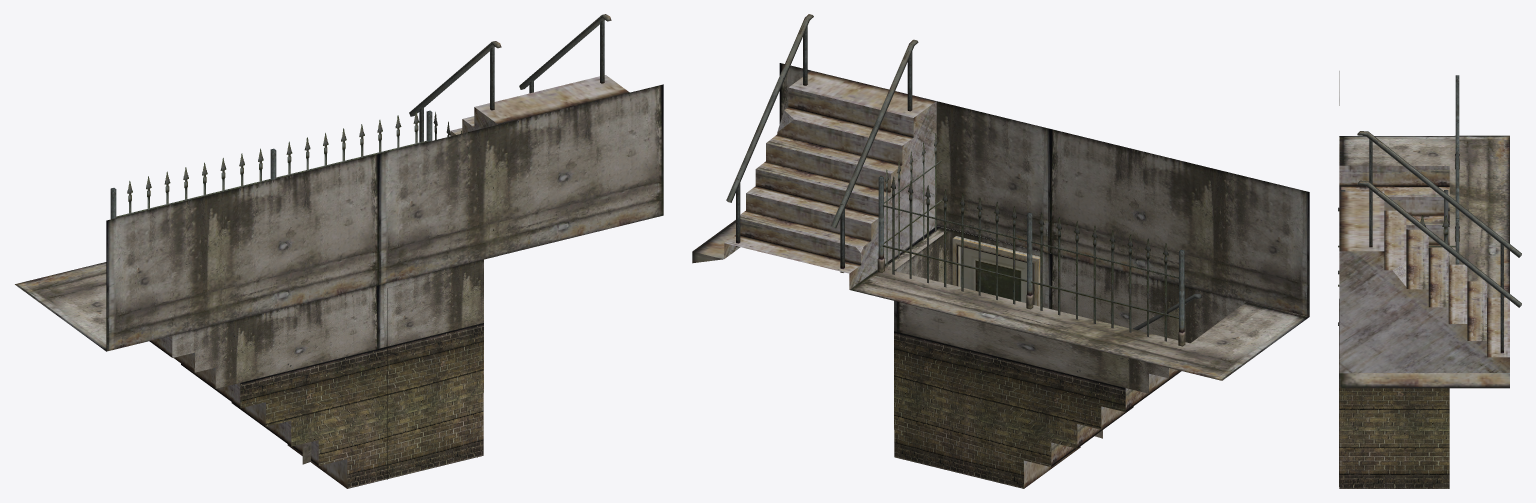
The model's file is Trottoir_05.fbx.
The picture shows the model from 3 angles, left to right: view 1: azimuth 30°, elevation 25°; view 2: azimuth 150°, elevation 25°; view 3: azimuth 270°, elevation 25°; orthographic projection. The views are drawn at different scales.
Visible parts, largest first — view 1: Trottoir_05; view 2: Trottoir_05; view 3: Trottoir_05.
Part boxes in pixels (x1,y1,x2,y2): Trottoir_05: [15, 14, 663, 488]; Trottoir_05: [692, 14, 1309, 488]; Trottoir_05: [1338, 71, 1521, 488].
Bounding box in the file's own units: 700 × 478 × 215.
